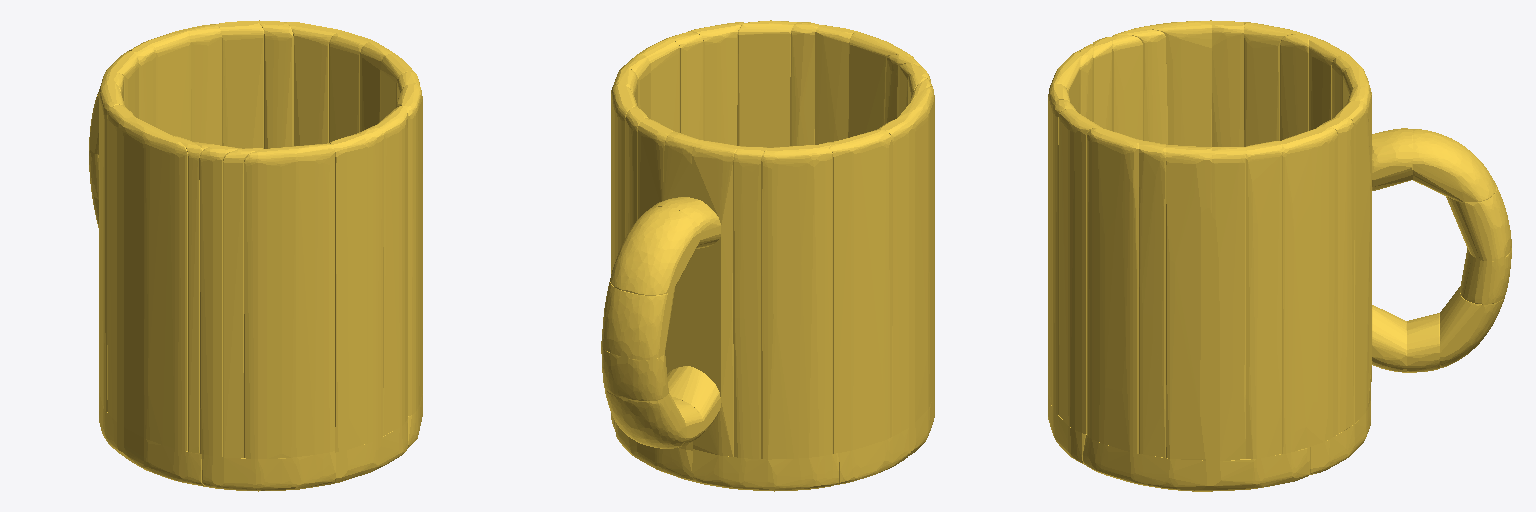
URDF robot description (1066.urdf):
<?xml version="1.0" ?>
<robot name="1066.urdf">
	<link name="baseLink">
		<inertial>
			<origin rpy="0 0 0" xyz="0 0 0"/>
				<mass value="0.1"/>
				<inertia ixx="6e-5" ixy="0" ixz="0" iyy="6e-5" iyz="0" izz="6e-5"/>
		</inertial>
		<visual>
			<origin rpy="0 0 0" xyz="0 0 0"/>
			<geometry>
				<mesh filename="15_decom_wt.obj" scale="0.99 0.99 1.03"/>
			</geometry>
			<material name="yellow">
				<color rgba="0.98 0.84 0.35 1"/>
			</material>
		</visual>
		<collision>
			<origin rpy="0 0 0" xyz="0 0 0"/>
			<geometry>
				<mesh filename="15_decom_wt.obj" scale="0.99 0.99 1.03"/>
			</geometry>
		</collision>
	</link>
</robot>

--- Facts derived from the render (not from the file) ---
Views: 3 orthographic renders of the robot side by side, from view 1: azimuth 30°, elevation 25°; view 2: azimuth 150°, elevation 25°; view 3: azimuth 270°, elevation 25°.
Robot: 1066.urdf — 1 links, 0 joints (none); root link baseLink; default pose: every joint at zero.
Visible links, largest first — view 1: baseLink; view 2: baseLink; view 3: baseLink.
Boxes of the visible links, x1,y1,x2,y2 form: baseLink: (89, 20, 422, 491); baseLink: (601, 20, 934, 491); baseLink: (1048, 20, 1511, 491).
Bounding box of the posed robot: 0.0852 × 0.1221 × 0.0994 m (x, y, z).
1 mesh visuals loaded from 1 distinct referenced files (1 OBJ).